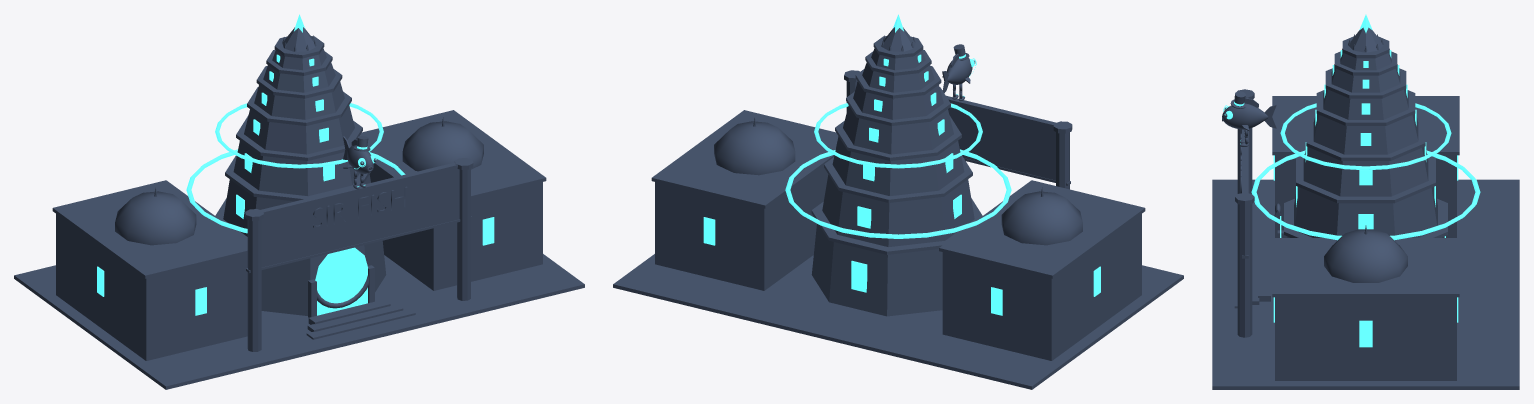
3 renders of one model, left to right at view 1: azimuth 30°, elevation 25°; view 2: azimuth 150°, elevation 25°; view 3: azimuth 270°, elevation 25°, orthographic.
Parts seen in each view (by area): view 1: Tower_Stone, Tower_Glow; view 2: Tower_Stone, Tower_Glow; view 3: Tower_Stone, Tower_Glow.
Boxes of the visible parts, x1=… form: Tower_Stone: x1=14, y1=27, x2=584, y2=389; Tower_Glow: x1=97, y1=14, x2=494, y2=315; Tower_Stone: x1=613, y1=27, x2=1183, y2=389; Tower_Glow: x1=703, y1=14, x2=1100, y2=315; Tower_Stone: x1=1212, y1=27, x2=1519, y2=389; Tower_Glow: x1=1223, y1=14, x2=1480, y2=347.
Bounding box in the file's own units: 18.8 × 11.55 × 11.8.
